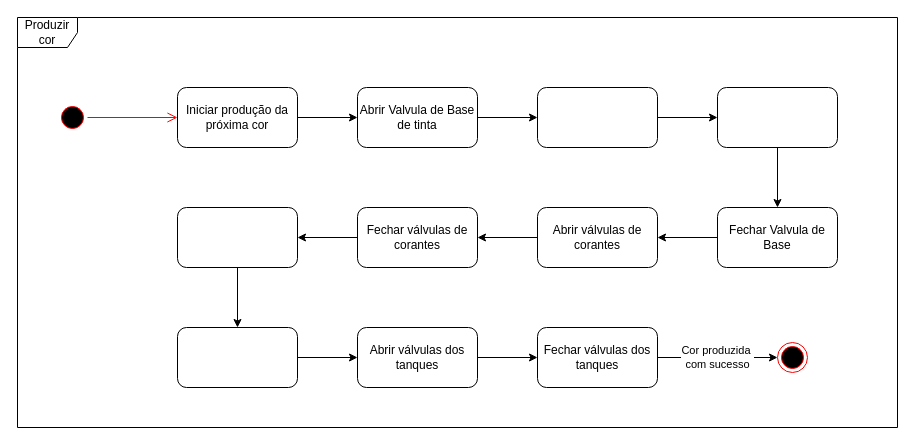
Image size: 915x445. Some labels were removed from this diagram. Here are the shapes that lost their labels. From the top down, the centre of each, then its label:
(597,117): Ligar Bomba de Base
(777,117): Desligar Bomba de Base
(237,237): Ligar misturadores
(237,357): Desligar misturadores
